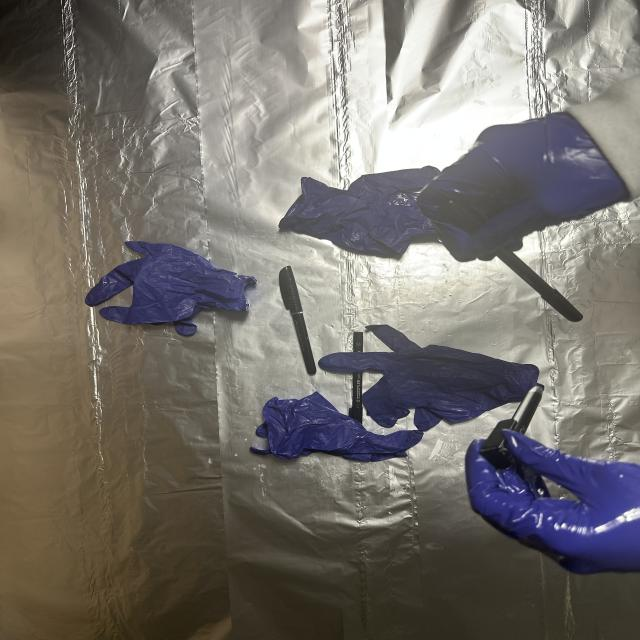gloves_contaminated: (418, 115, 630, 262), (466, 431, 640, 574)
